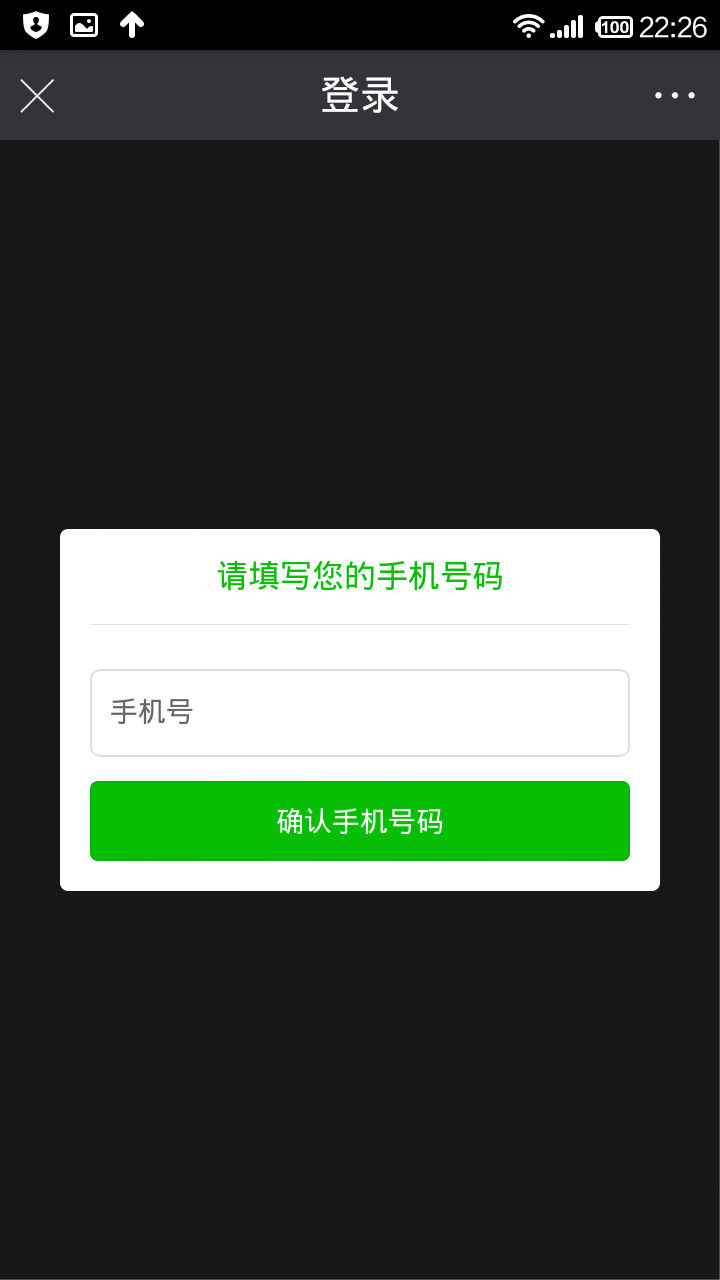button: (82, 764, 646, 873)
textview: (68, 662, 649, 763)
